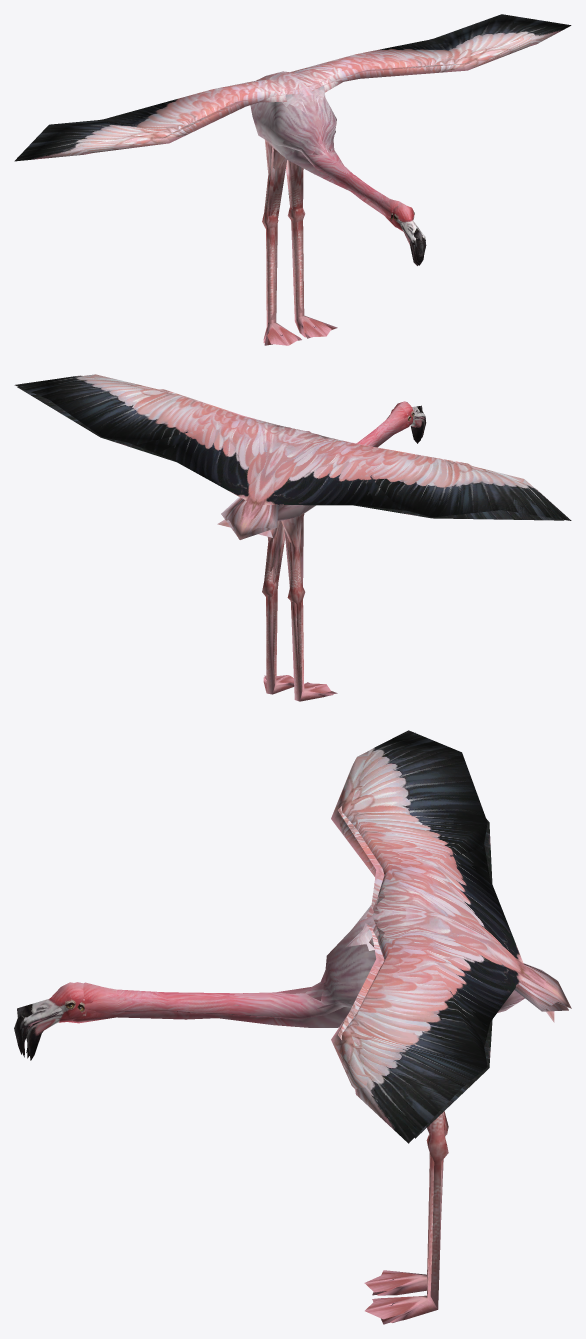
Rendered from adult.obj.
The picture shows the model from 3 angles, top to bottom: view 1: azimuth 30°, elevation 25°; view 2: azimuth 150°, elevation 25°; view 3: azimuth 270°, elevation 25°; orthographic projection. The views are drawn at different scales.
Visible parts, largest first — view 1: Editable_Mesh.000_Editable_Mesh.003, Editable_Mesh.001_Editable_Mesh.004, Editable_Mesh.002; view 2: Editable_Mesh.000_Editable_Mesh.003, Editable_Mesh.001_Editable_Mesh.004, Editable_Mesh.002; view 3: Editable_Mesh.000_Editable_Mesh.003, Editable_Mesh.001_Editable_Mesh.004, Editable_Mesh.002.
Part boxes in pixels (<box>): Editable_Mesh.000_Editable_Mesh.003: <box>14,14,571,345</box>; Editable_Mesh.001_Editable_Mesh.004: <box>20,27,565,326</box>; Editable_Mesh.002: <box>100,39,471,345</box>; Editable_Mesh.000_Editable_Mesh.003: <box>14,375,571,701</box>; Editable_Mesh.001_Editable_Mesh.004: <box>84,374,567,701</box>; Editable_Mesh.002: <box>17,387,564,694</box>; Editable_Mesh.000_Editable_Mesh.003: <box>18,730,571,1322</box>; Editable_Mesh.001_Editable_Mesh.004: <box>14,751,568,1322</box>; Editable_Mesh.002: <box>17,732,554,1324</box>.
Bounding box in the file's own units: 2.92 × 1.29 × 1.67.
Materials: 3 (3 with a texture image).
